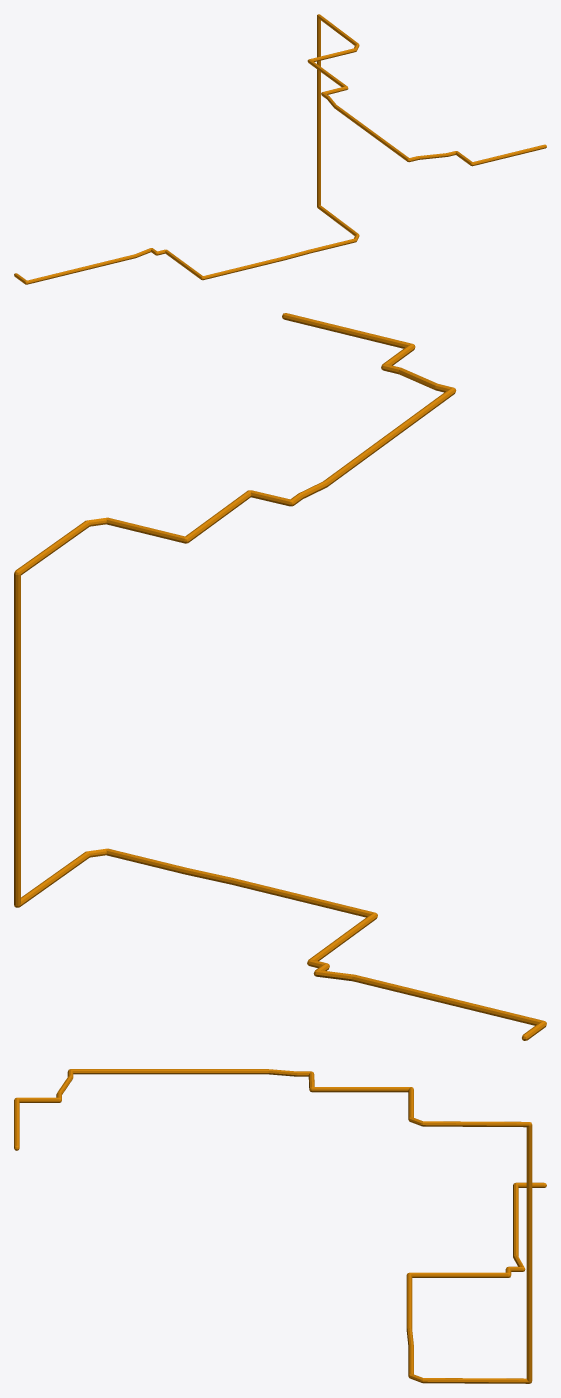
3 views of the same model, one above another, from view 1: azimuth 30°, elevation 25°; view 2: azimuth 150°, elevation 25°; view 3: azimuth 270°, elevation 25° (orthographic). The views are drawn at different scales.
Size of the model in its own units: 1853 by 1020 by 1882.
